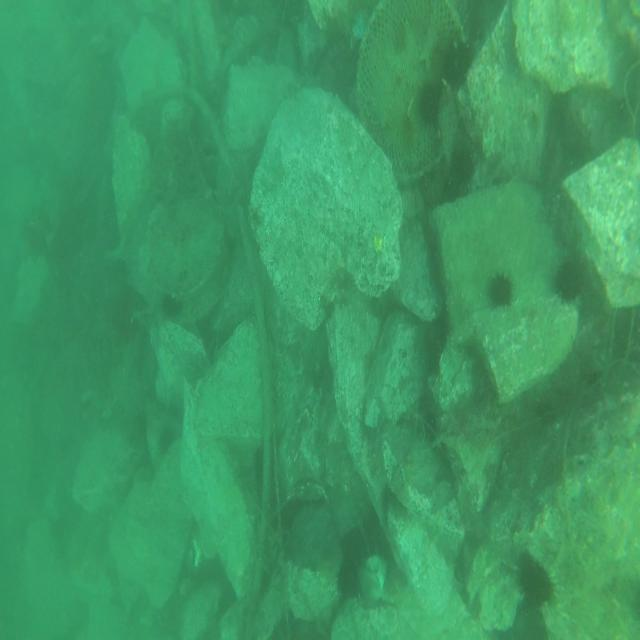echinus: (512, 552, 559, 612), (441, 34, 474, 91), (487, 265, 515, 312), (331, 554, 363, 594), (450, 143, 477, 188), (417, 83, 442, 130), (552, 262, 579, 299), (159, 282, 184, 320)
